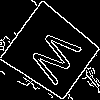W: (26, 26, 91, 92)
